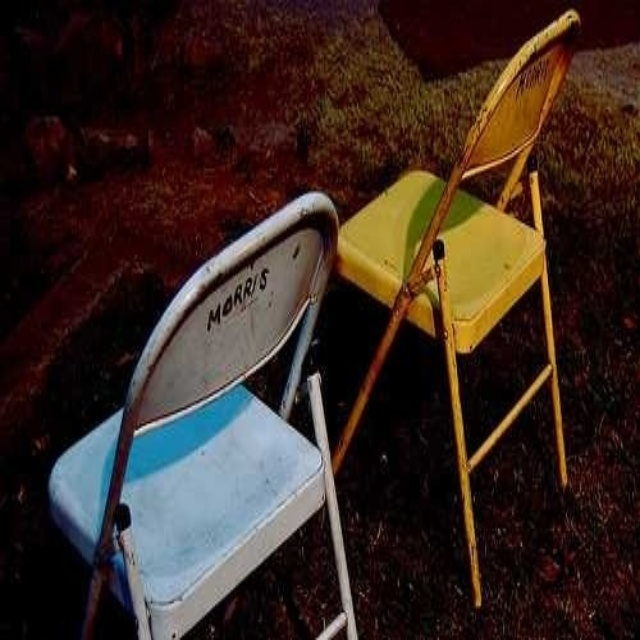obstacle: (333, 9, 579, 606), (50, 191, 356, 635)
